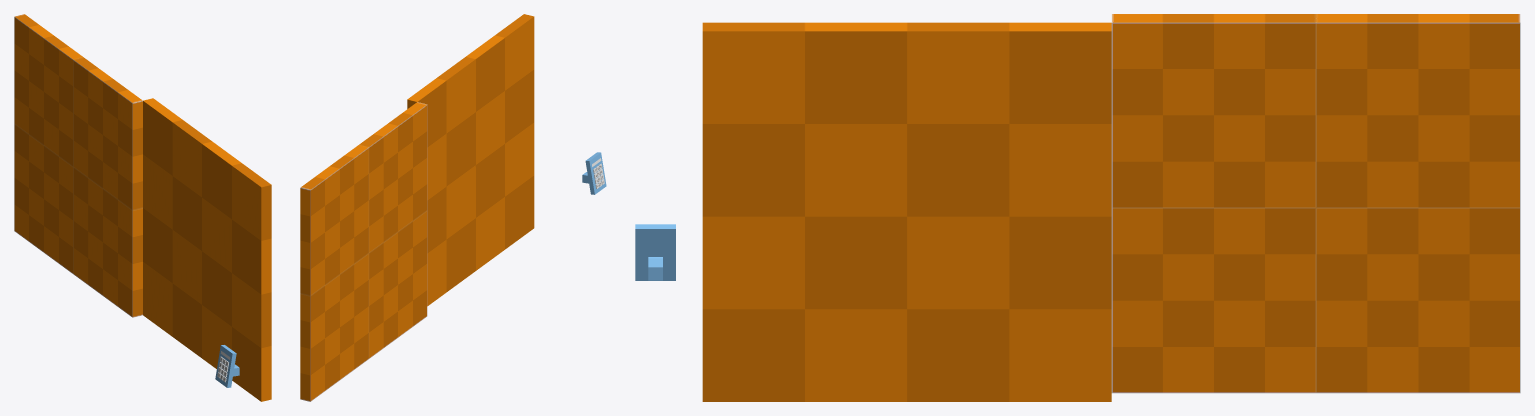
File: numpad.gltf
The picture shows the model from 3 angles, left to right: view 1: azimuth 30°, elevation 25°; view 2: azimuth 150°, elevation 25°; view 3: azimuth 270°, elevation 25°; orthographic projection. The views are drawn at different scales.
Visible parts, largest first — view 1: numpad_door_small, numpad_door_big, numpad_case; view 2: numpad_door_small, numpad_door_big, numpad_case; view 3: numpad_door_big, numpad_door_small, numpad_case.
Part boxes in pixels (x1,y1,x2,y2): numpad_door_small: (14, 14, 142, 317); numpad_door_big: (143, 98, 271, 401); numpad_case: (215, 345, 239, 387); numpad_door_small: (300, 102, 427, 401); numpad_door_big: (407, 14, 534, 306); numpad_case: (582, 152, 606, 194); numpad_door_big: (702, 22, 1111, 401); numpad_door_small: (1111, 14, 1520, 393); numpad_case: (635, 224, 675, 280).
Size of the model in its own units: 1.56 by 5 by 10.82.
Materials: 4 (3 with a texture image).
